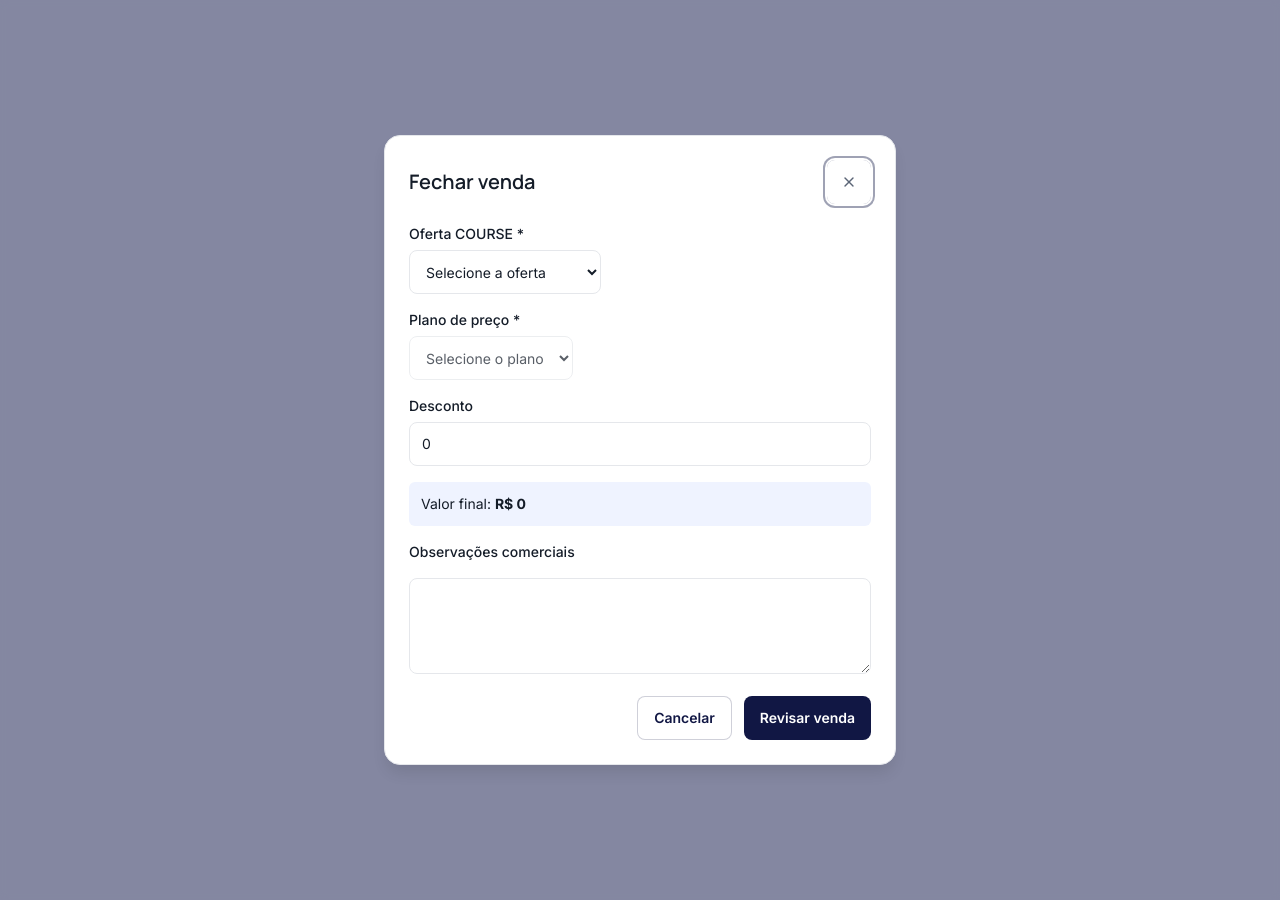
Test: CloseSaleModal — commercial COURSE flow › requires offer and price plan
Click the button "Revisar venda": (807, 718) [744, 696, 871, 740]
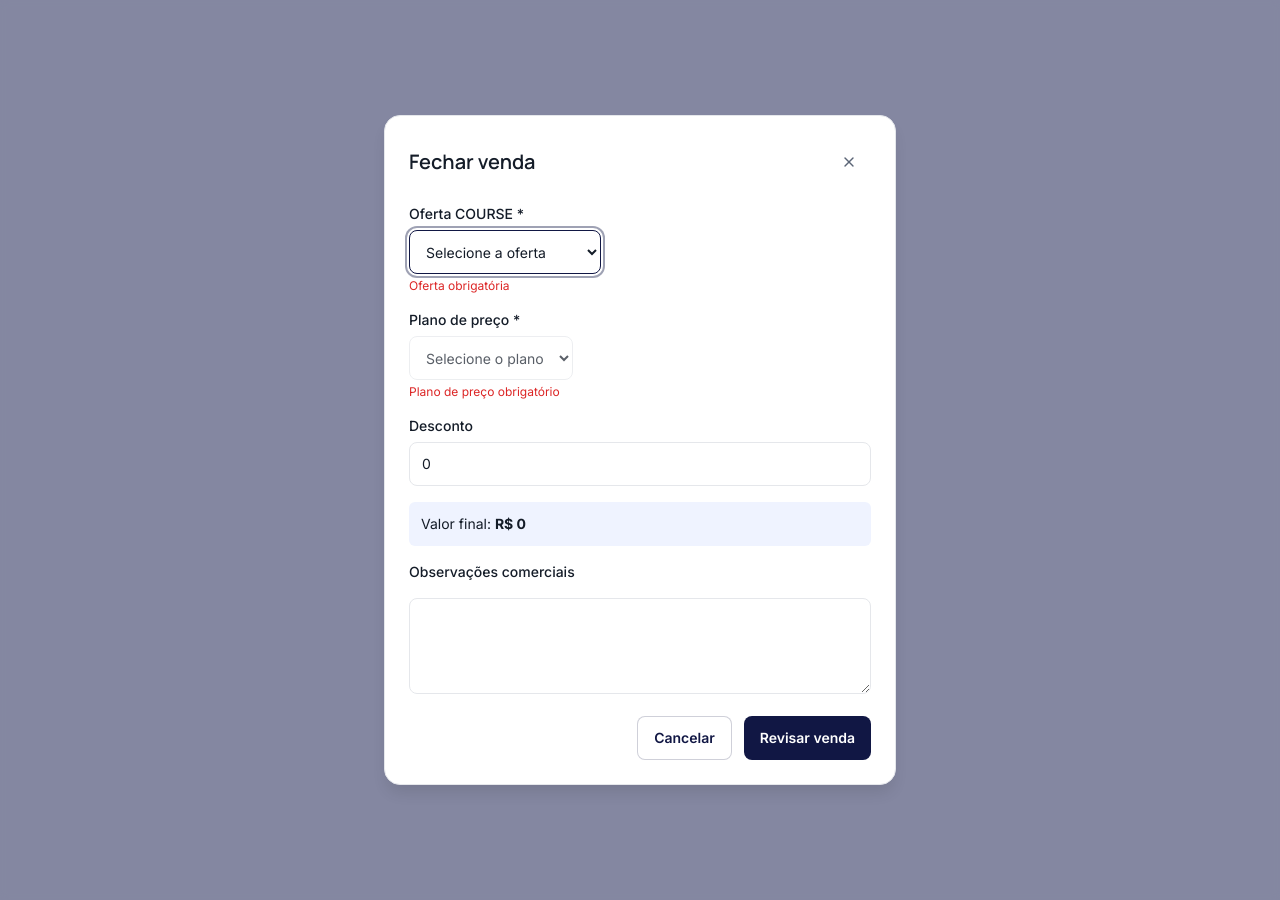
Result: the text "Oferta obrigatória" is shown at [409, 278, 510, 293]
Result: the text "Plano de preço obrigatório" is shown at [409, 384, 560, 399]
